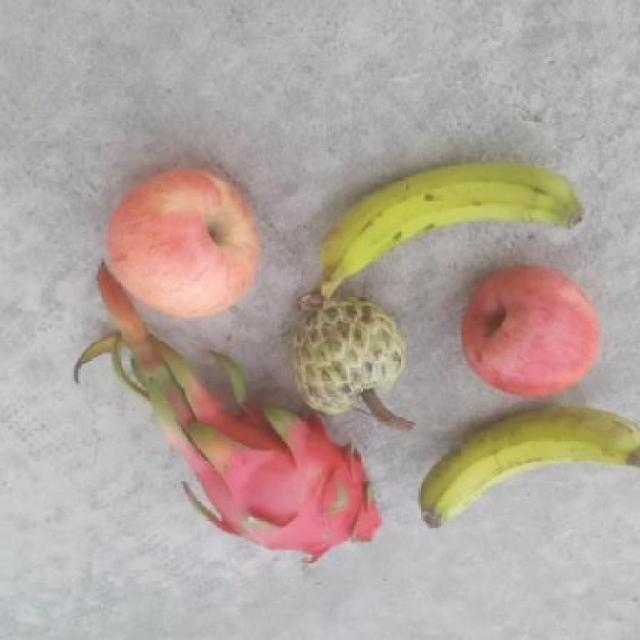apple: (95, 167, 263, 315), (461, 266, 597, 399)
banana: (316, 160, 592, 288), (413, 401, 639, 534)
dragon fruit: (194, 416, 386, 572)
sugar apple: (292, 295, 403, 413)
